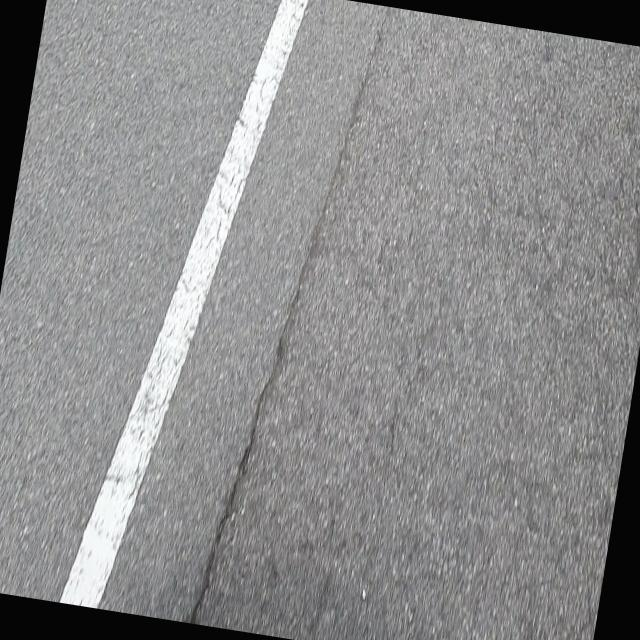Retak-Memanjang: (188, 15, 390, 624)
